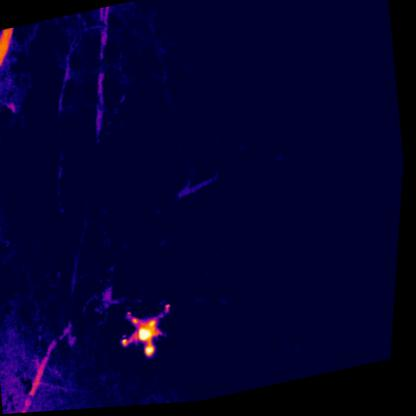drone: (119, 303, 183, 363)
